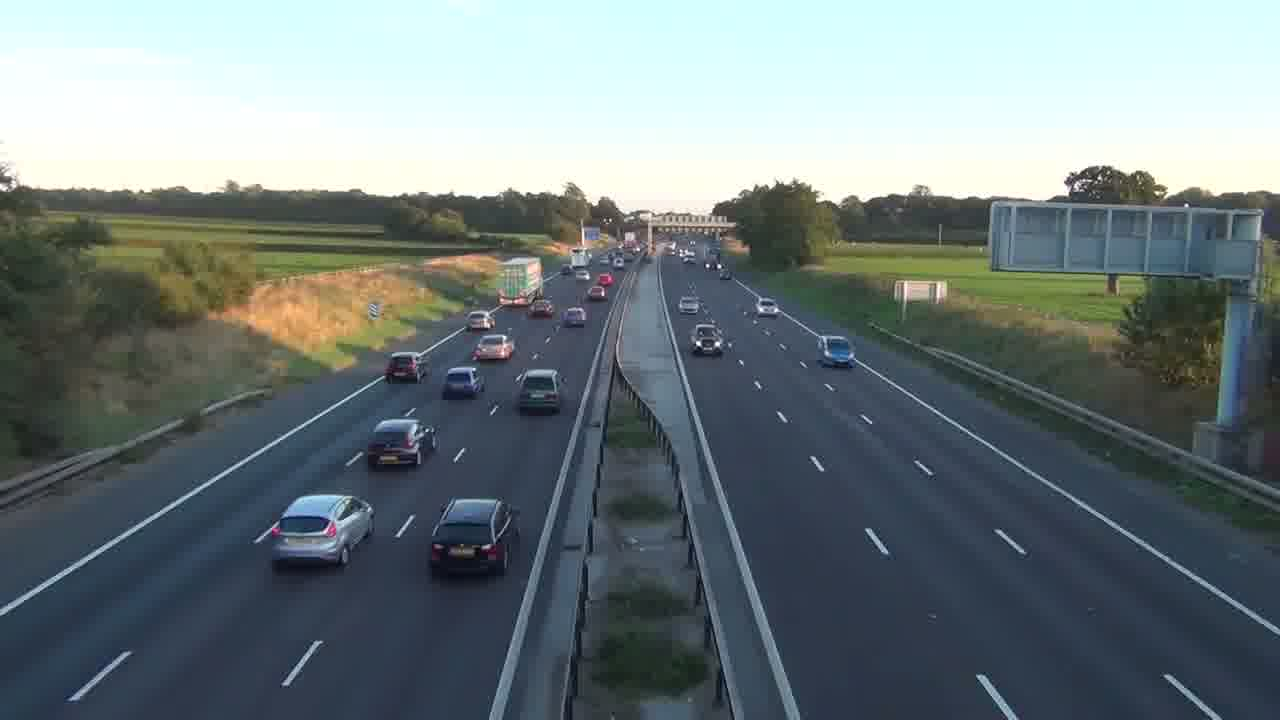car: (268, 493, 375, 567), (429, 496, 521, 578), (366, 417, 435, 470), (514, 368, 564, 415), (442, 365, 485, 399), (816, 335, 855, 368), (473, 332, 515, 362), (560, 306, 587, 328)
truck: (384, 351, 428, 383)
